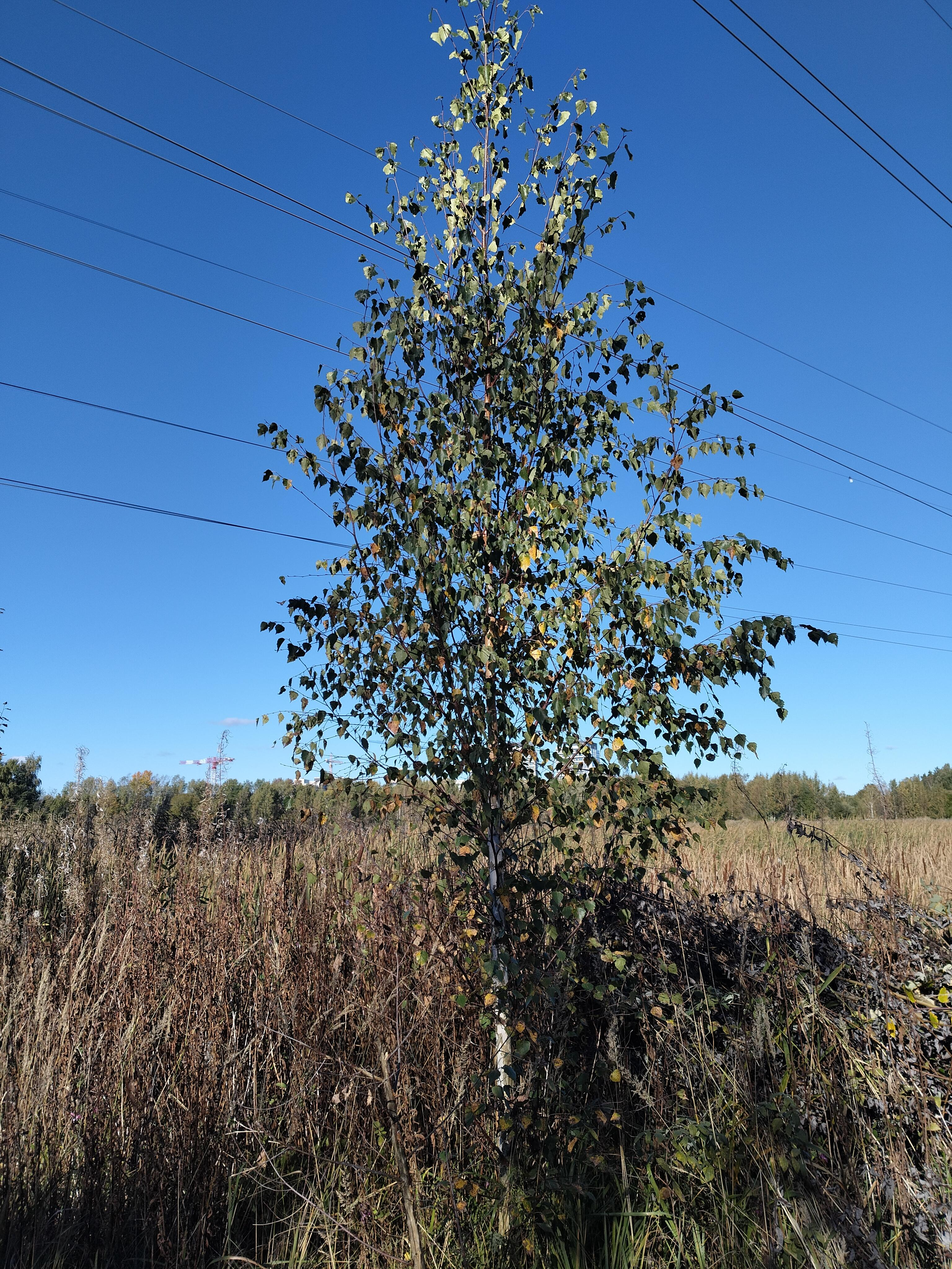Birch: (249, 2, 839, 1132)
